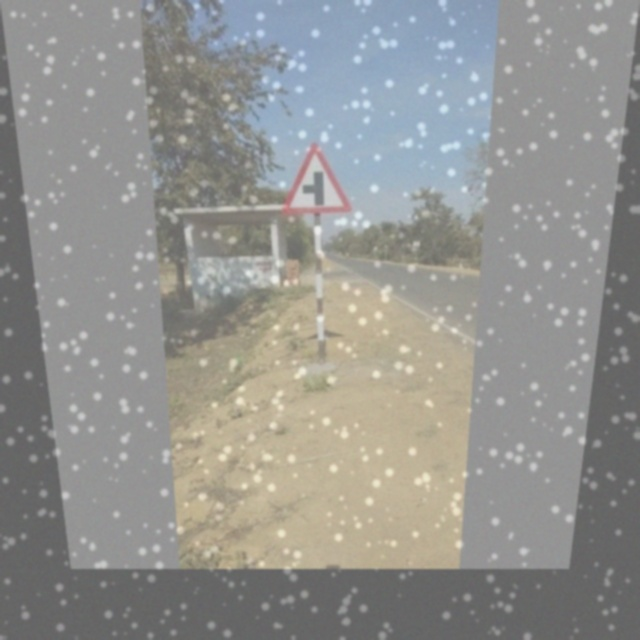Side_Road_Left: (279, 138, 354, 219)
